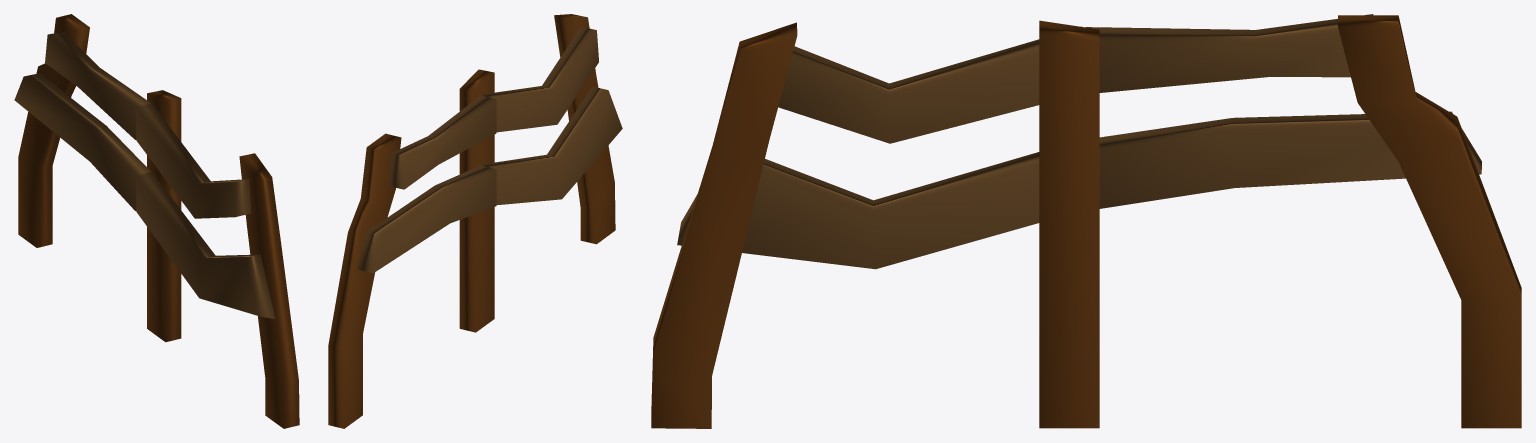
Rendered from Valla.fbx.
3 renders of one model, left to right at view 1: azimuth 30°, elevation 25°; view 2: azimuth 150°, elevation 25°; view 3: azimuth 270°, elevation 25°, orthographic. The views are drawn at different scales.
Visible parts, largest first — view 1: Tabla.001; view 2: Tabla.001; view 3: Tabla.001.
Part boxes in pixels (left/top/right/bottom): Tabla.001: left=14, top=14, right=299, bottom=428; Tabla.001: left=328, top=14, right=622, bottom=428; Tabla.001: left=651, top=14, right=1521, bottom=428.
Bounding box in the file's own units: 18.01 × 133 × 261.
